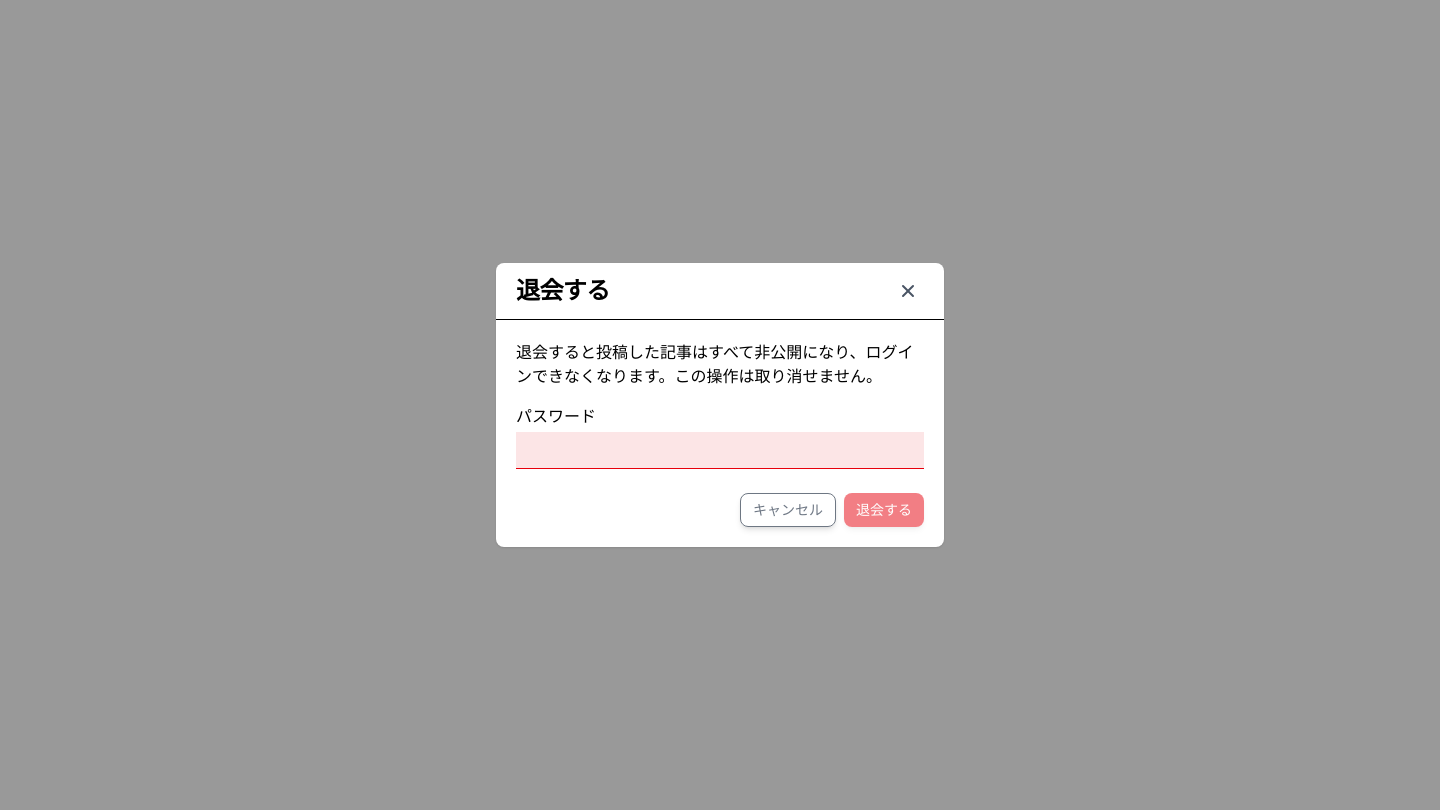
it: AccountDeleteModal コンポーネント › パスワード誤りのバリデーションエラーが表示される
Type "wrong-password" into the password field labelled "パスワード" at (720, 450), box 516,432 -> 924,469
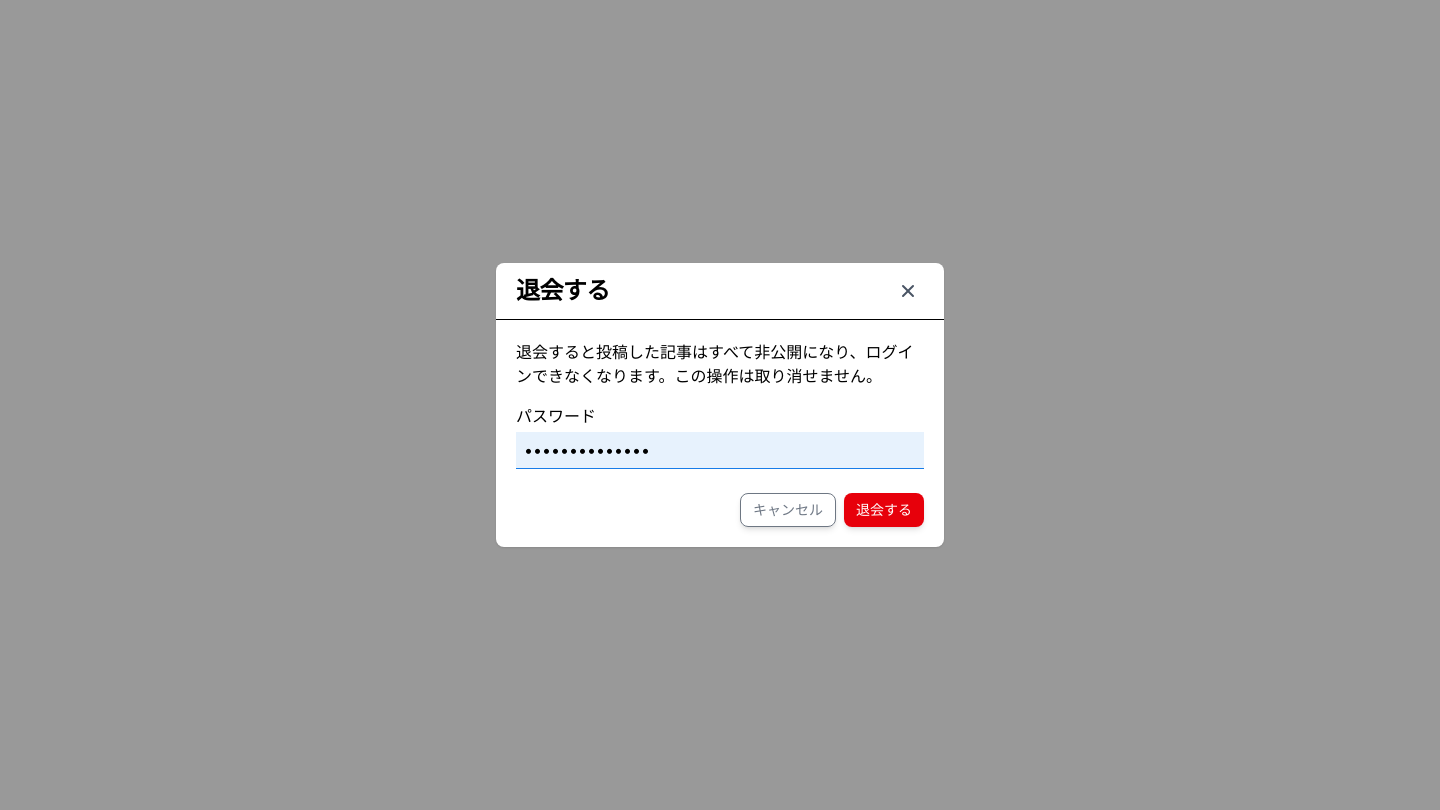
Click the button "退会する" at (884, 510), box 844,493 -> 924,527
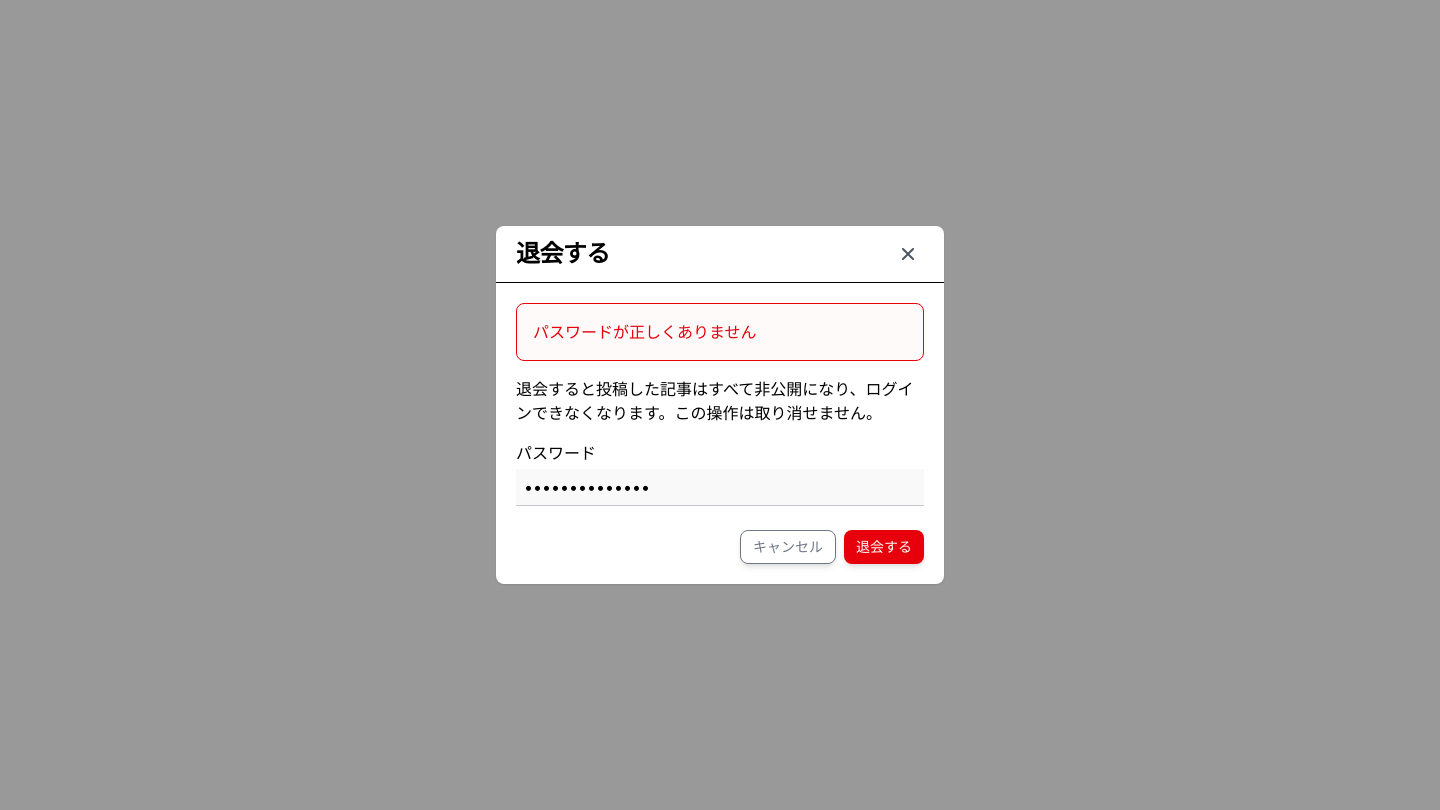
Result: the text "パスワードが正しくありません" is shown at 533,322 -> 756,342
